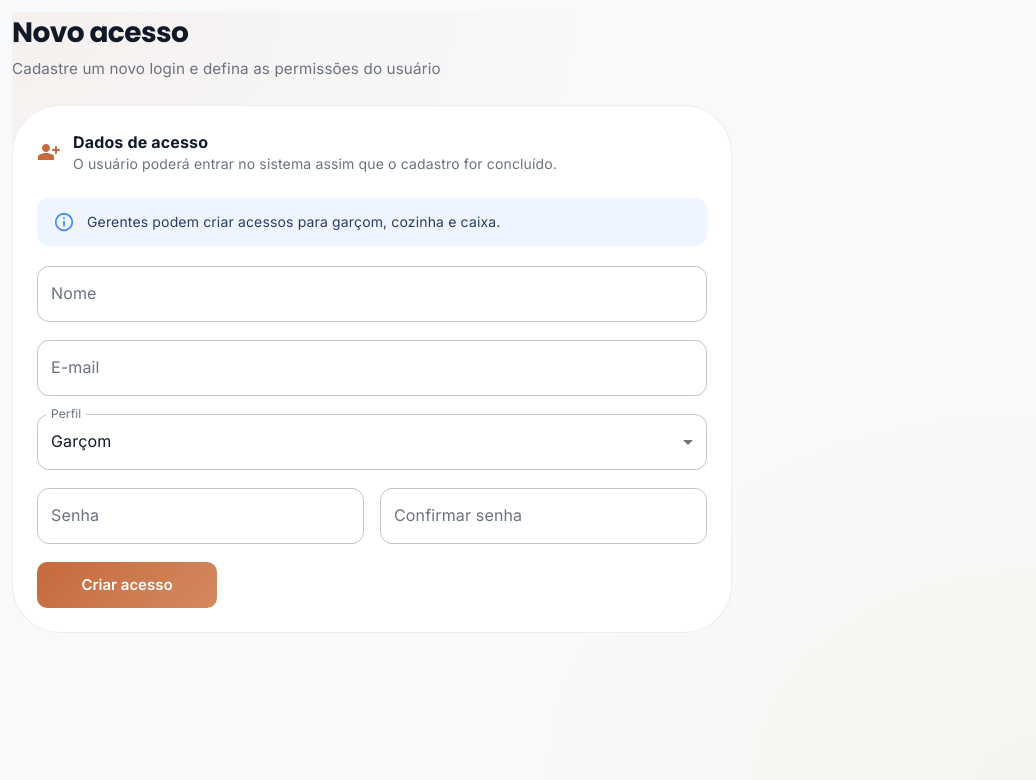
Test case: CreateUserPage › limita os perfis que podem ser criados pelo gerente
Expected: the text "Gerentes podem criar acessos para garçom, cozinha e caixa." is shown, [87,213,500,230]
Click the dropdown named "Perfil". click: coordinates (81, 441)
box: [51,431,111,451]
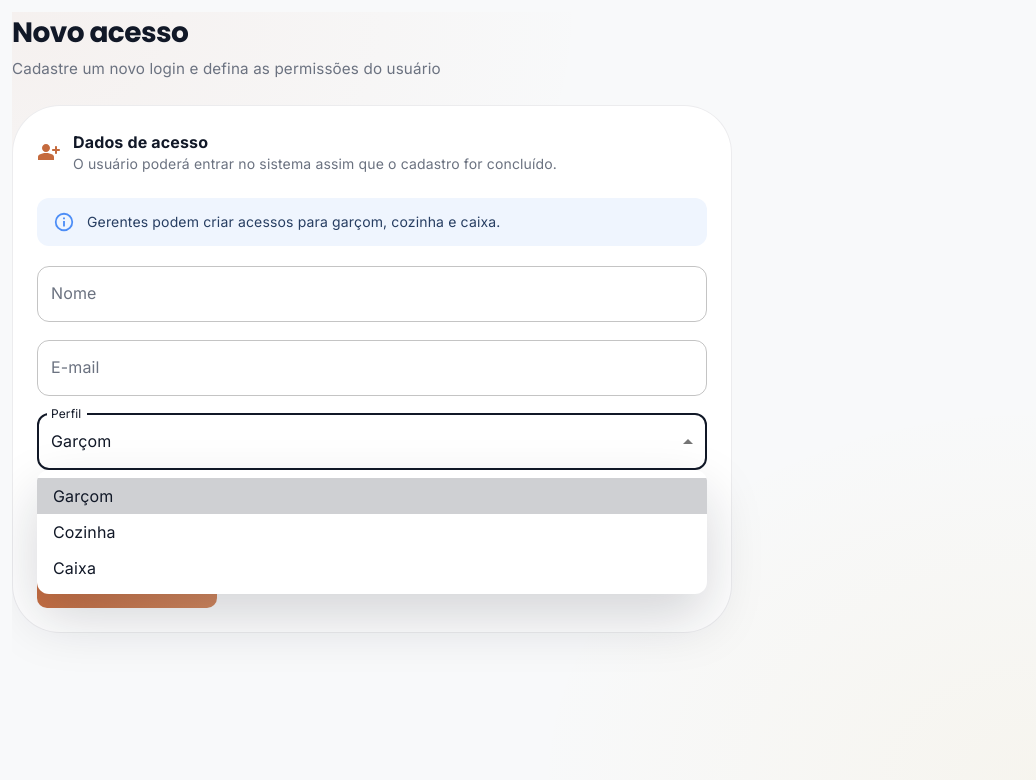
Now the option "Garçom" is shown, box [37,478,707,514]
Now the option "Cozinha" is shown, box [53,522,116,542]
Now the option "Caixa" is shown, box [53,558,96,578]
